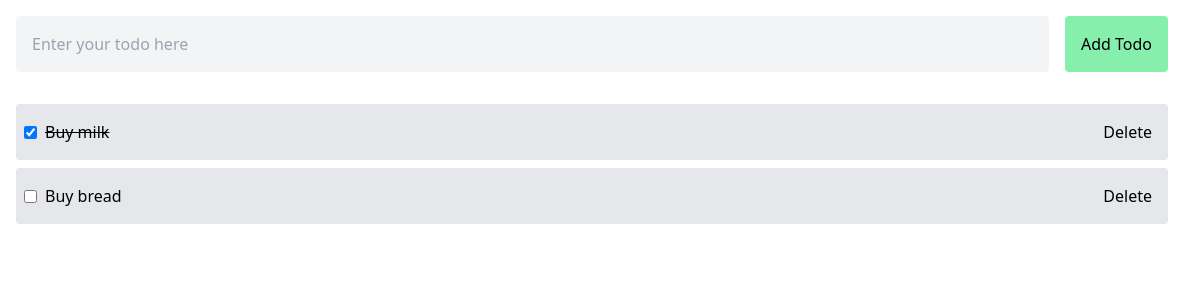
Test: TodoApp › can add new item
This screenshot has width=1185, height=305.
Type "Do stuff" into the field with test id "todoInput" at [532, 44], box [16,16,1049,72]
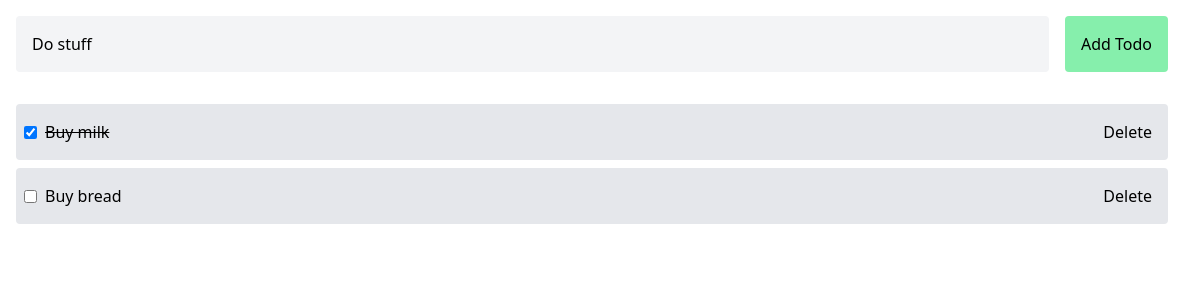
Click the button with test id "todoSubmit" at [1116, 44], box [1065,16,1168,72]
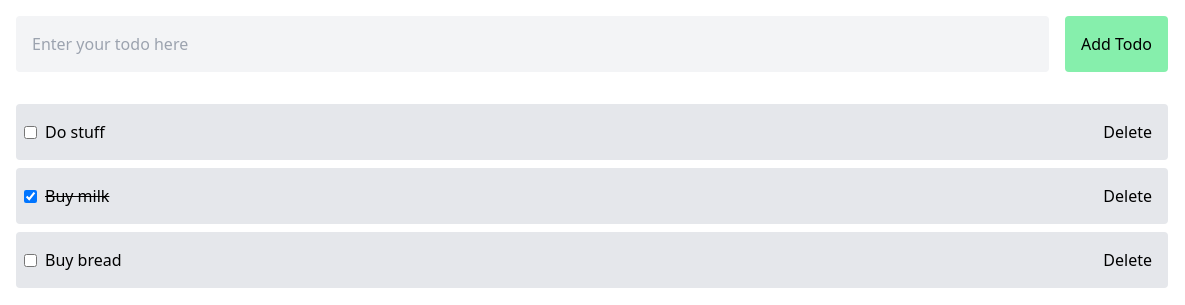
Expected: the text "Do stuff" is shown, [45,120,105,144]
